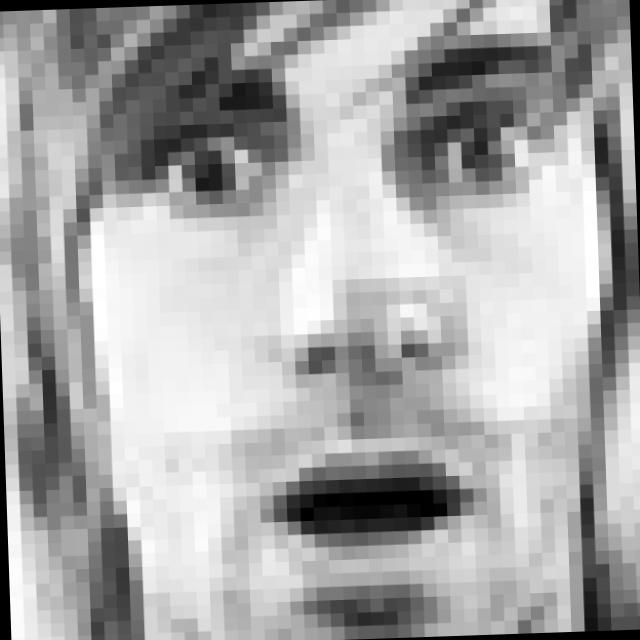surprise: (135, 26, 596, 613)
